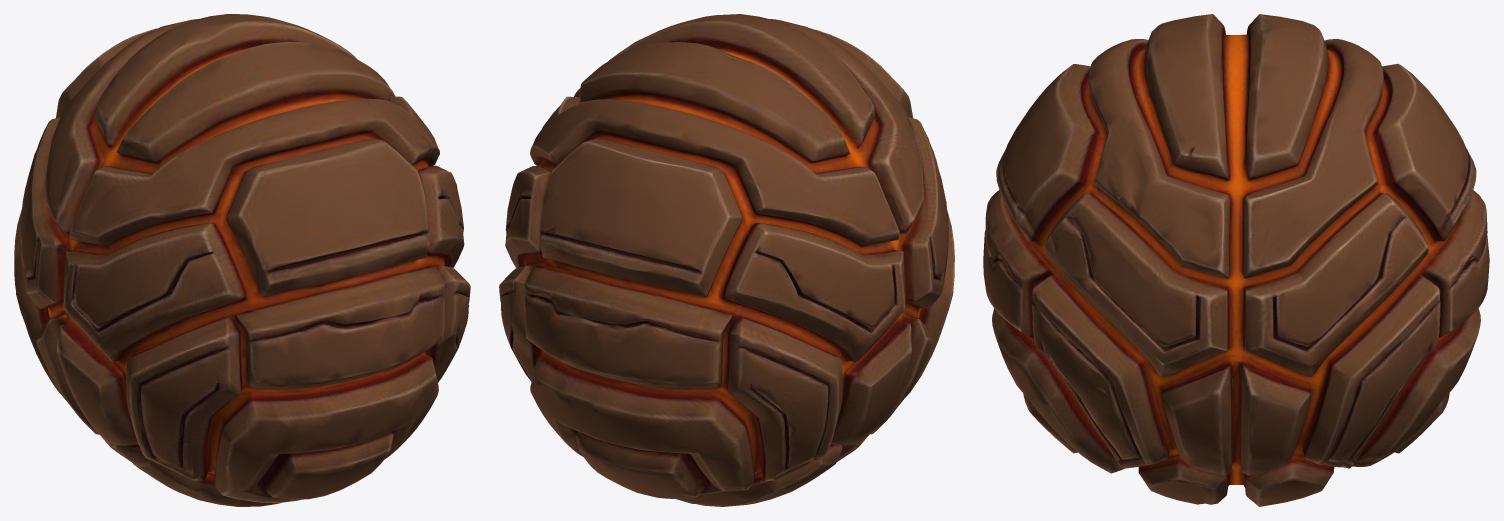
File: ball_hard.glb
The picture shows the model from 3 angles, left to right: view 1: azimuth 30°, elevation 25°; view 2: azimuth 150°, elevation 25°; view 3: azimuth 270°, elevation 25°; orthographic projection. The views are drawn at different scales.
Visible parts, largest first — view 1: tripo_node_96839d56-786d-4cc6-b4f3-7fa9f78f5d1b; view 2: tripo_node_96839d56-786d-4cc6-b4f3-7fa9f78f5d1b; view 3: tripo_node_96839d56-786d-4cc6-b4f3-7fa9f78f5d1b.
Part boxes in pixels (left/top/right/bottom): tripo_node_96839d56-786d-4cc6-b4f3-7fa9f78f5d1b: left=14, top=14, right=470, bottom=506; tripo_node_96839d56-786d-4cc6-b4f3-7fa9f78f5d1b: left=499, top=14, right=954, bottom=506; tripo_node_96839d56-786d-4cc6-b4f3-7fa9f78f5d1b: left=983, top=14, right=1489, bottom=506.
Bounding box in the file's own units: 0.8774 × 0.9798 × 0.9796.
1 material, 1 textured.
